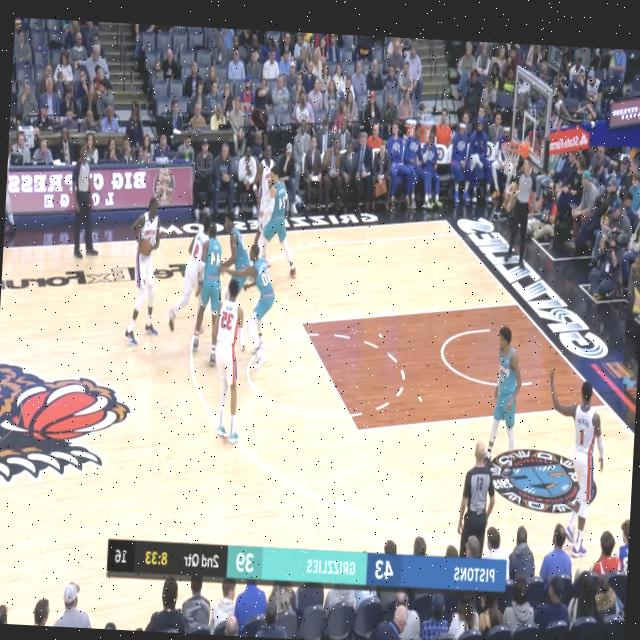no foul: (204, 200, 278, 370), (165, 205, 230, 358), (122, 194, 170, 340), (251, 150, 301, 274)
